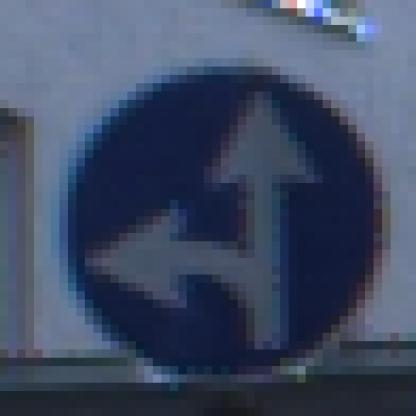Straight or Left: (52, 51, 374, 375)
